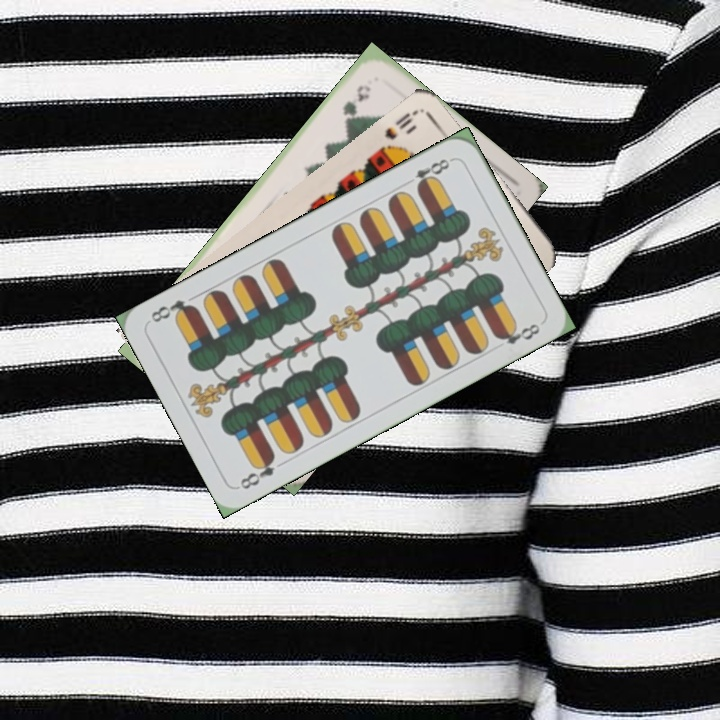E8: (401, 154, 456, 192), (236, 450, 278, 492)
G9: (338, 80, 373, 126)
S10: (374, 107, 419, 155)
